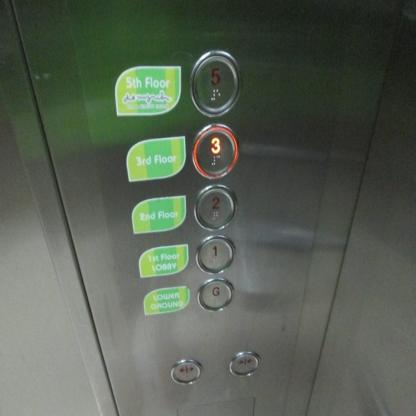1: (194, 232, 238, 274)
2: (191, 182, 240, 232)
3: (191, 119, 240, 182)
5: (190, 49, 241, 118)
G: (196, 274, 236, 312)
close: (227, 348, 262, 380)
open: (169, 356, 206, 387)
